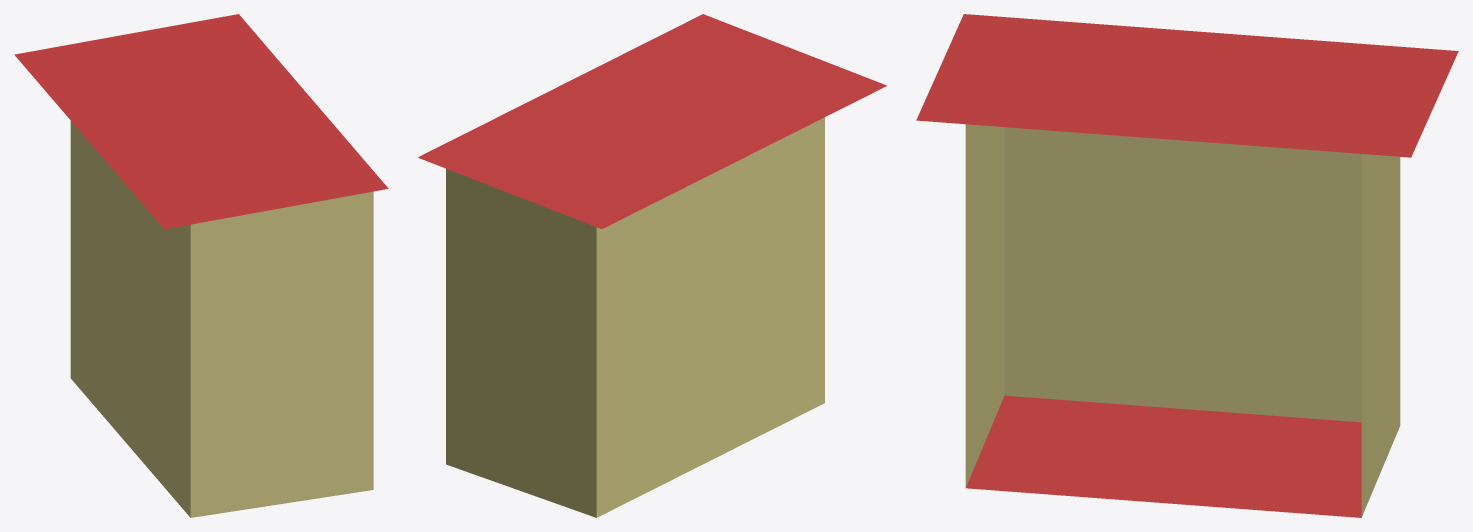
3 renders of one model, left to right at view 1: azimuth 30°, elevation 25°; view 2: azimuth 150°, elevation 25°; view 3: azimuth 270°, elevation 25°, orthographic. The views are drawn at different scales.
Size of the model in its own units: 5.32 by 8.09 by 5.99.
